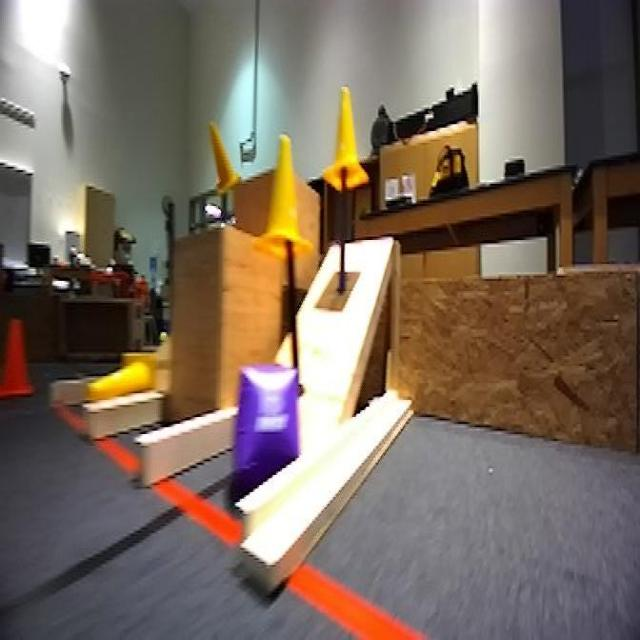frc_cone: (259, 134, 314, 256), (323, 83, 368, 194), (90, 349, 160, 408), (208, 114, 241, 197)
frc_cube: (224, 361, 301, 490)
